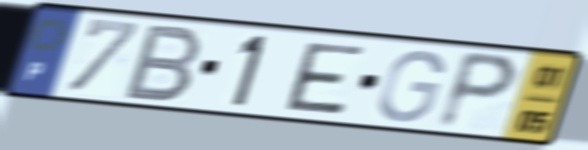1: (229, 33, 269, 109)
7: (66, 15, 143, 96)
B: (119, 21, 207, 104)
E: (283, 40, 370, 118)
G: (374, 47, 448, 125)
P: (432, 47, 523, 133)
